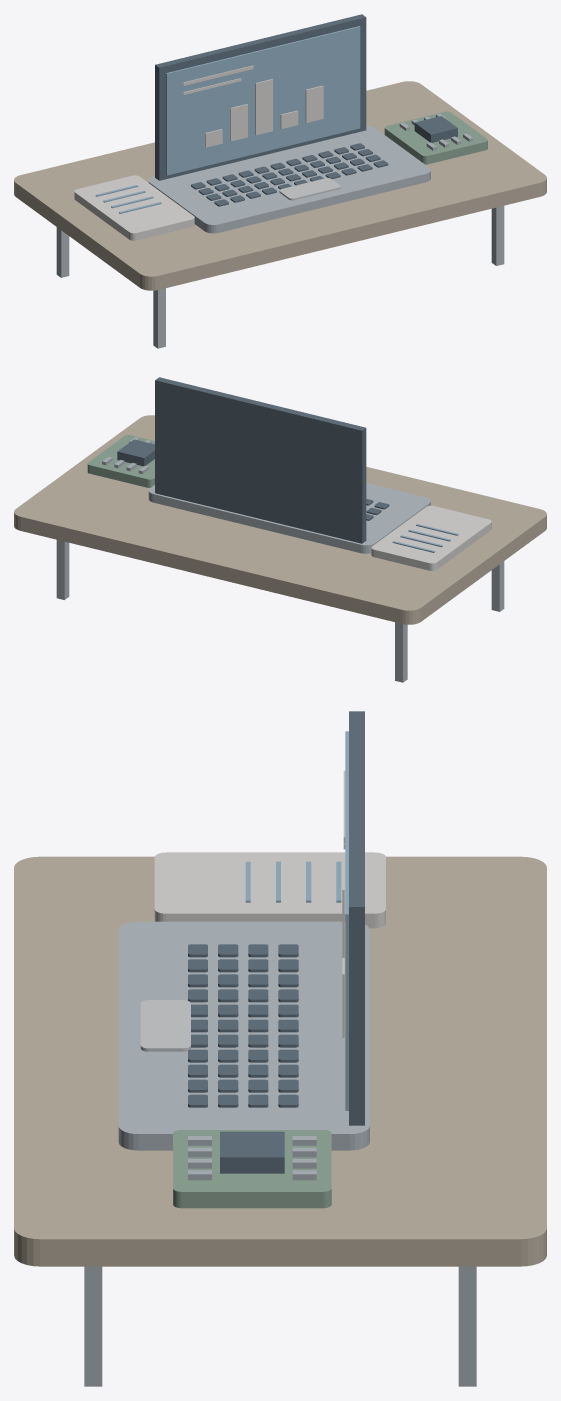
File: workbench.glb
3 views of the same model, one above another, from view 1: azimuth 30°, elevation 25°; view 2: azimuth 150°, elevation 25°; view 3: azimuth 270°, elevation 25° (orthographic). The views are drawn at different scales.
Visible parts, largest first — view 1: workbench; view 2: workbench; view 3: workbench.
Part boxes in pixels (x1,y1,x2,y2): workbench: (14, 14, 546, 348); workbench: (14, 377, 546, 682); workbench: (14, 711, 546, 1386).
Size of the model in its own units: 4.5 by 2.27 by 2.65.
